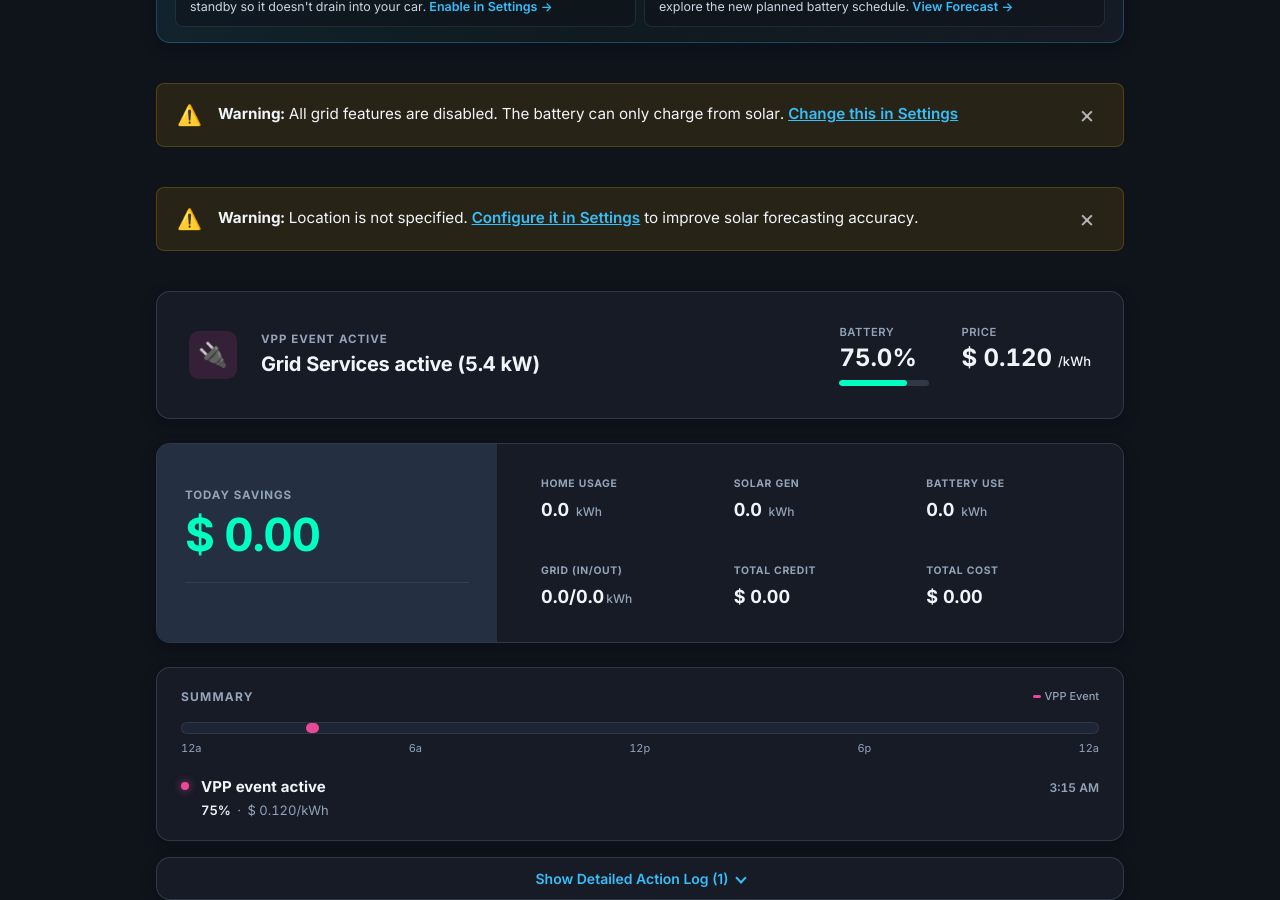
Test: Dashboard › renders VPP active state in current status and timeline
(page scrolled)
Step 1. Click the button "Show Detailed Action Log (1)" → [640, 878], box [156,857,1124,899]
(page scrolled)
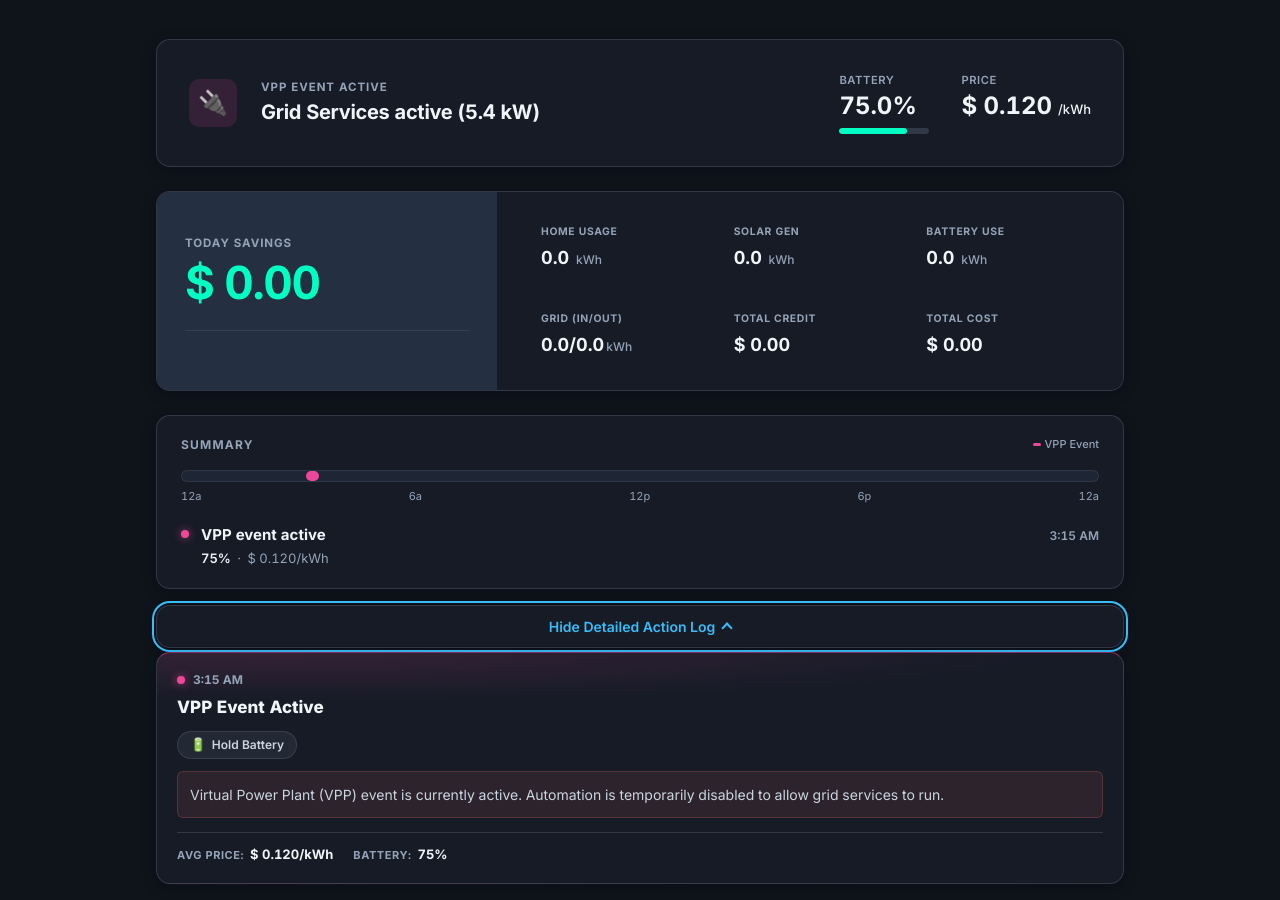
Expected: the element with class "current-status-card" shows "VPP Event Active", [261,80,388,94]
Expected: the list item with class "mode-vpp" is shown, [156,652,1124,884]
Expected: the list item with class "mode-vpp" shows "VPP Event Active", [177,697,324,717]
